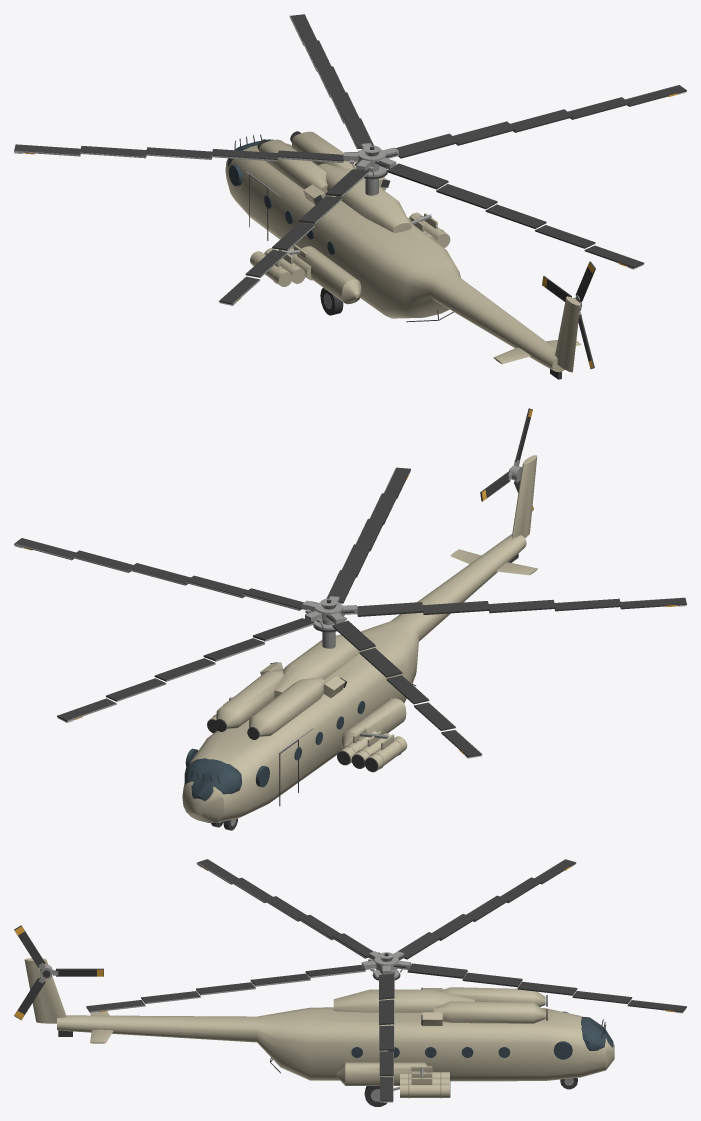
Rendered from rus_heli_mi8amtsh.glb.
3 renders of one model, top to bottom at view 1: azimuth 30°, elevation 25°; view 2: azimuth 150°, elevation 25°; view 3: azimuth 270°, elevation 25°, orthographic. The views are drawn at different scales.
Visible parts, largest first — view 1: body, rotor, trotor; view 2: body, rotor, trotor; view 3: body, rotor, trotor.
Boxes of the visible parts, <box> form: body: <box>225,131,580,379</box>; rotor: <box>14,14,686,305</box>; trotor: <box>542,261,595,369</box>; body: <box>182,455,537,830</box>; rotor: <box>14,467,686,758</box>; trotor: <box>480,408,533,511</box>; body: <box>24,958,614,1106</box>; rotor: <box>86,859,686,1102</box>; trotor: <box>14,925,103,1020</box>.
Bounding box in the file's own units: 19.41 × 6.16 × 22.86.
